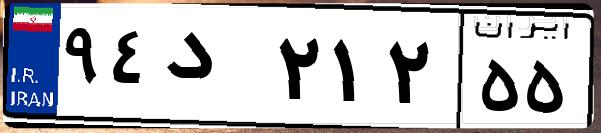1: (330, 28, 385, 110)
2: (270, 28, 330, 110), (385, 28, 445, 110)
4: (110, 28, 158, 98)
5: (475, 38, 525, 113), (525, 38, 570, 115)
9: (57, 26, 110, 100)
د: (158, 20, 270, 120)
